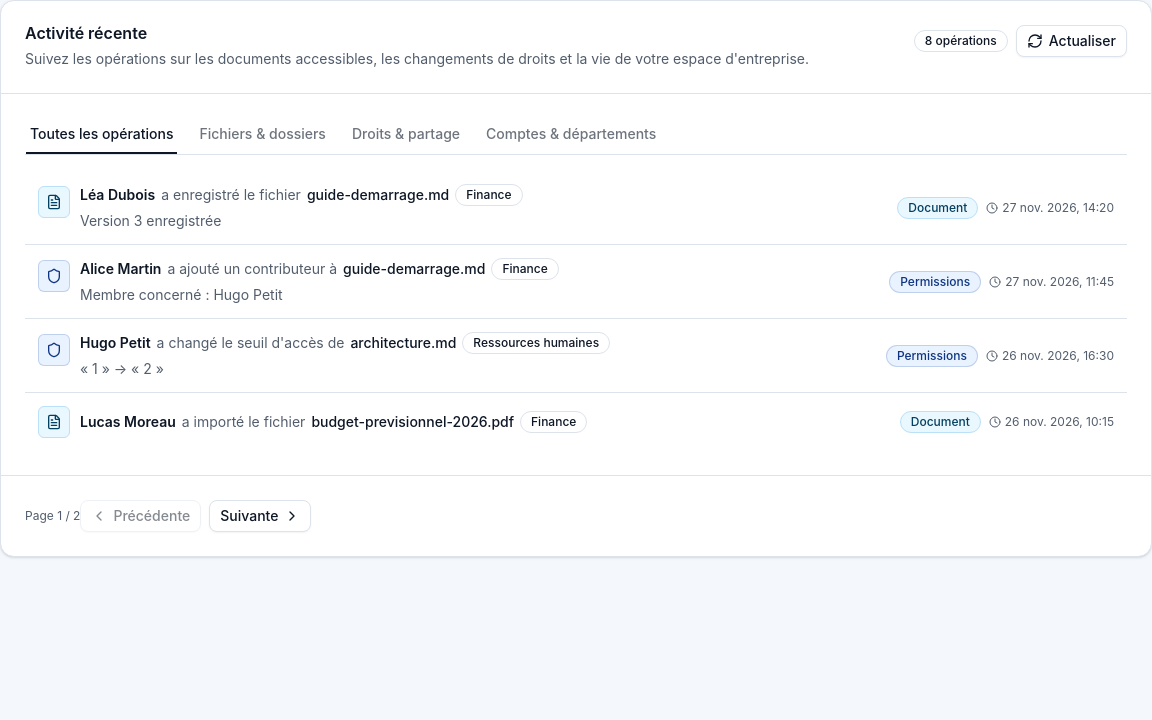
Test: ActivityFeedPanel & NodeActivitySection (T37) › affiche le fil d'activité paginé, l'auteur plateforme et filtre par catégorie
Check: the text "8 opérations" is shown, box [914,30,1008,52]
Check: the text "Page 1 / 2" is shown, box [25,508,80,524]
Click the tab "Comptes & départements".
click(571, 134)  # box [481,118,661,150]
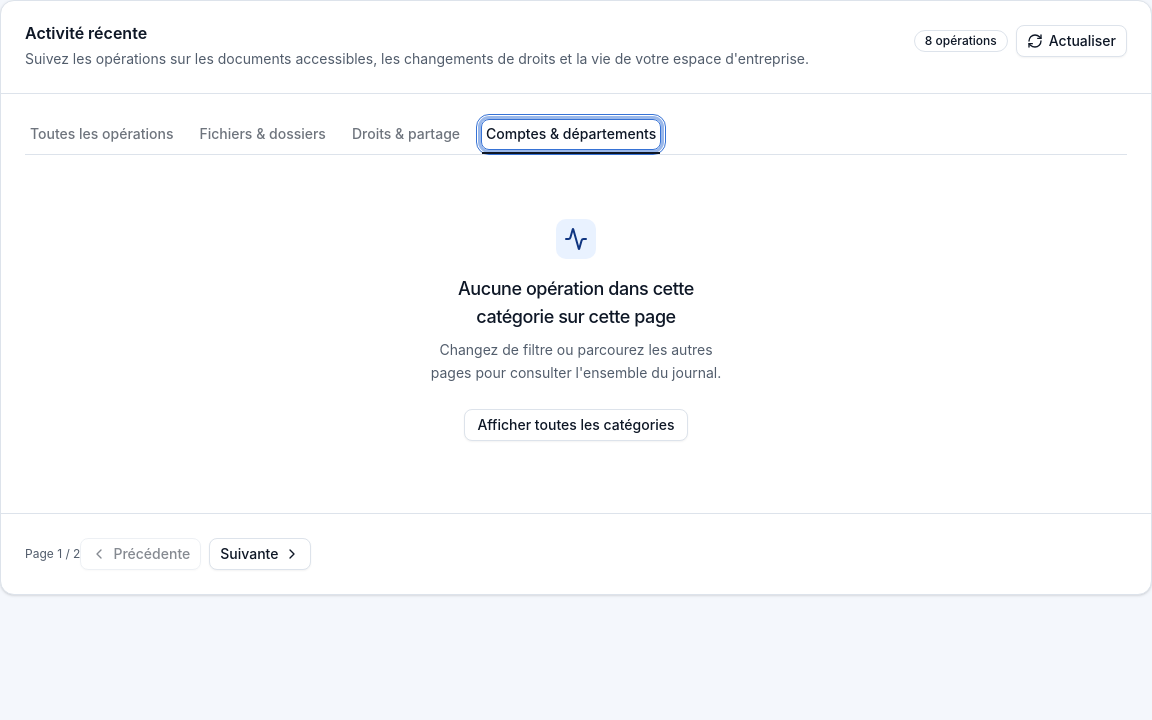
Check: the text "Aucune opération dans cette catégorie sur cette page" is shown, box [458,278,694,327]
Click the button "Afficher toutes les catégories".
click(576, 424)  # box [464,408,688,440]
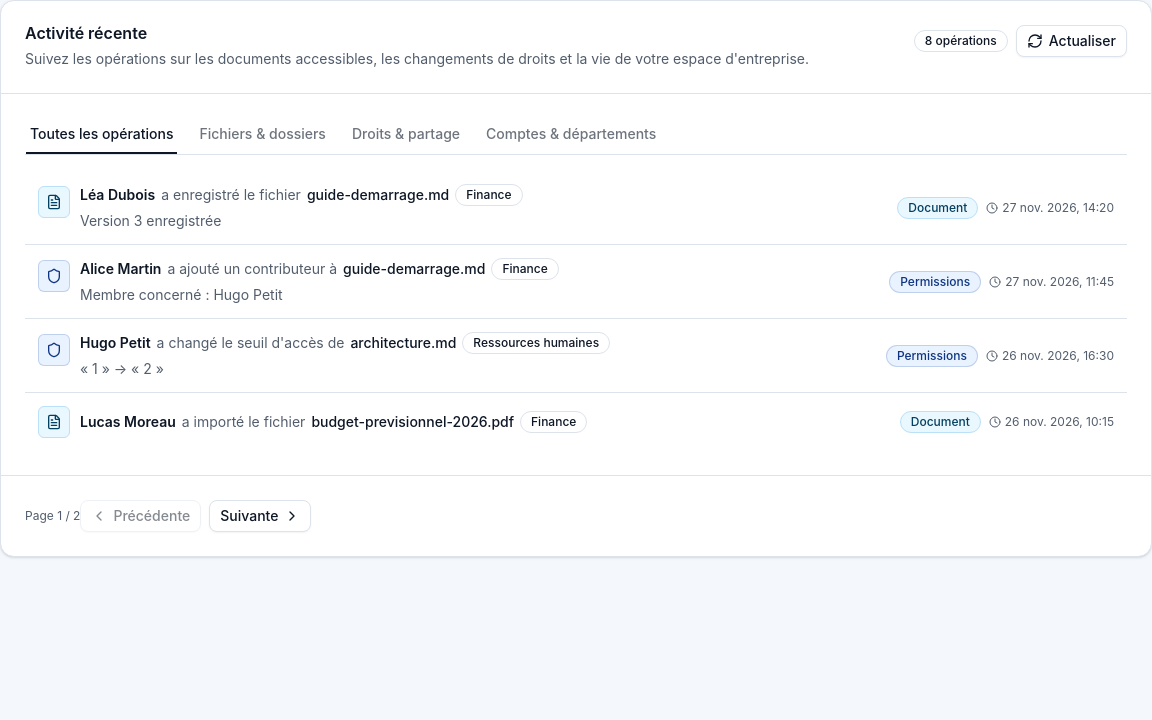
Check: the text "Léa Dubois" is shown, box [80,185,155,205]
Click the button "Suivante".
click(260, 516)  # box [209,500,312,532]
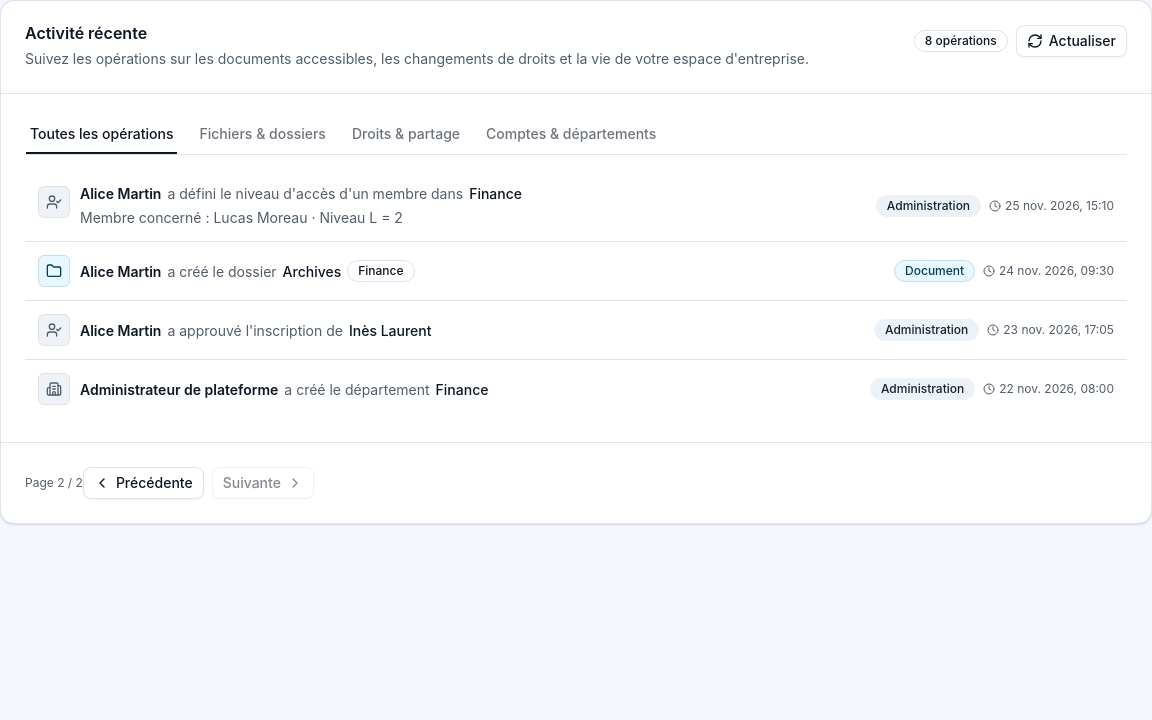
Check: the text "Page 2 / 2" is shown, box [25,475,83,491]
Check: the text "Administrateur de plateforme" is shown, box [80,380,278,399]
Check: the text "Inès Laurent" is shown, box [349,321,432,340]
